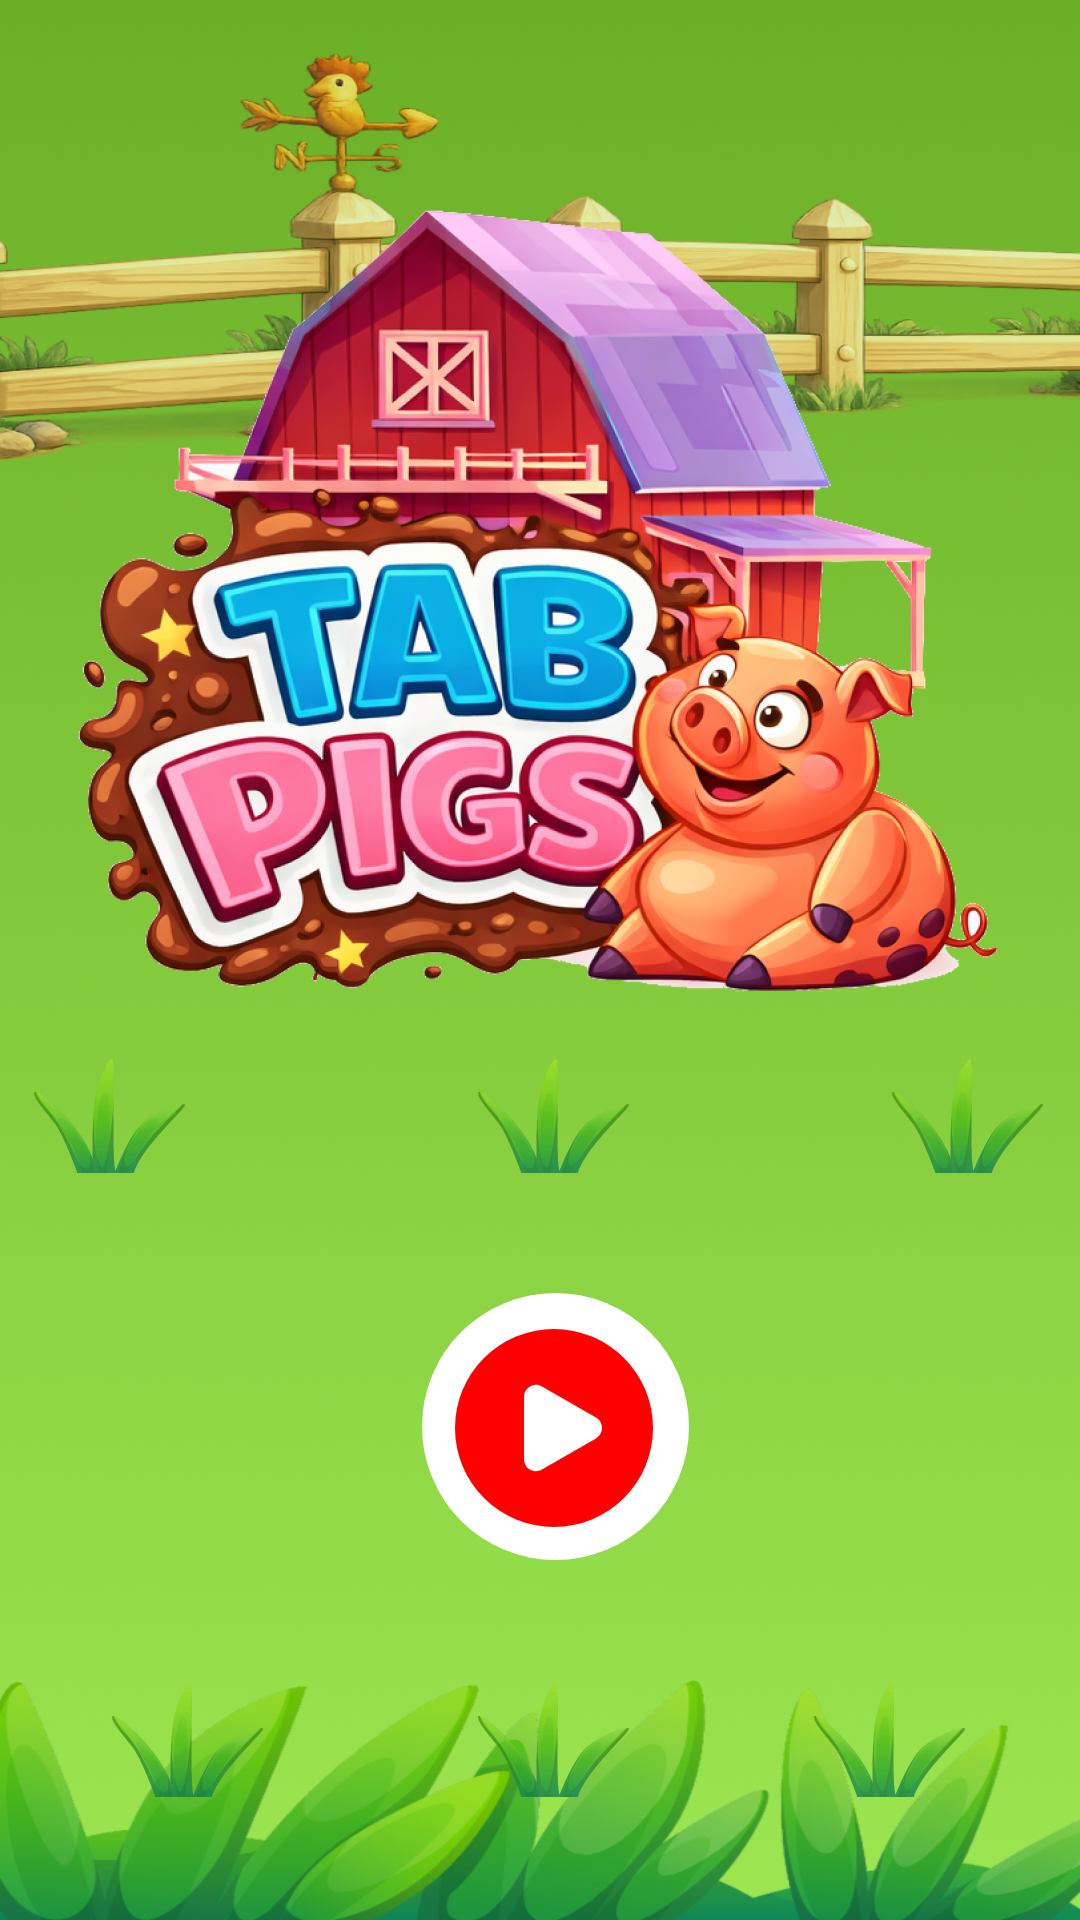

Named icons in this screenshot (1080px×1920px) and their centers, [x,y]:
grass: [109,1129], [553,1129], [967,1129], [555,1738], [191,1740], [889,1740]
play: [555,1426]
